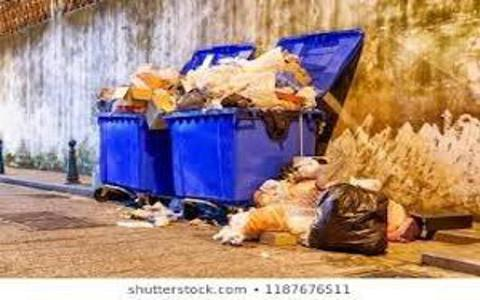overflowing garbage: (173, 62, 394, 260)
